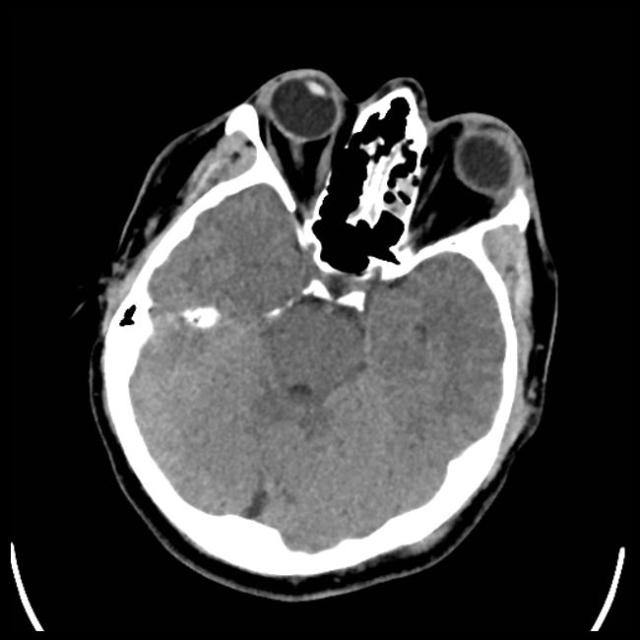lesion: (87, 66, 561, 597)
